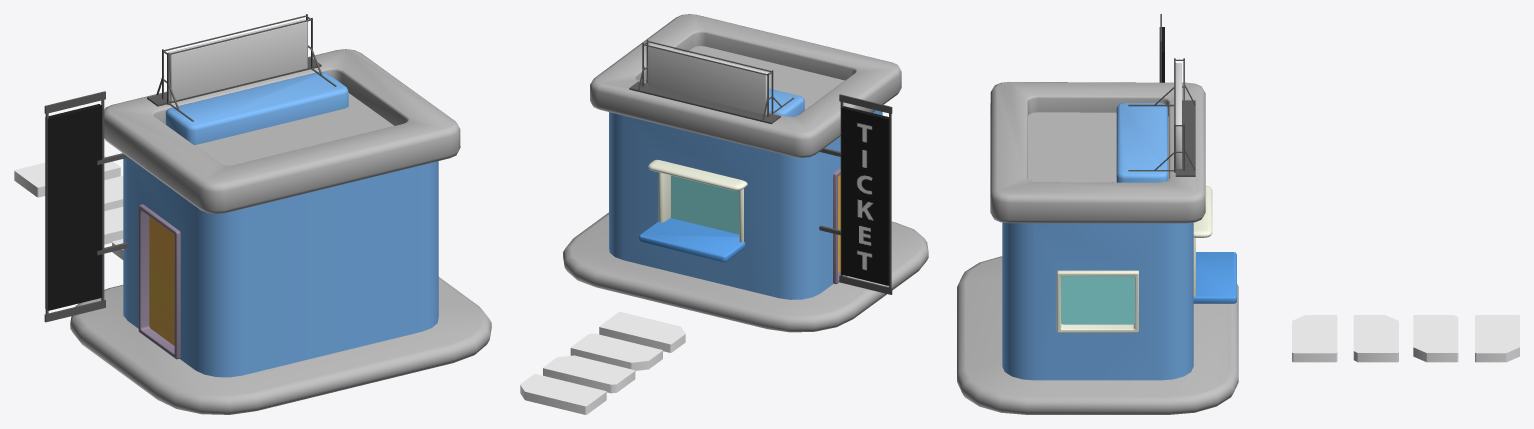
The model's file is ticket_office_blue.fbx.
3 views of the same model, side by side, from view 1: azimuth 30°, elevation 25°; view 2: azimuth 150°, elevation 25°; view 3: azimuth 270°, elevation 25° (orthographic). The views are drawn at different scales.
Parts seen in each view (by area): view 1: ticket_office_blue, stone3, stone2, stone4; view 2: ticket_office_blue, stone3, stone4, stone1, stone2; view 3: ticket_office_blue, stone1, stone2, stone4, stone3.
Part boxes in pixels (x1=…): ticket_office_blue: x1=44, y1=14, x2=491, y2=414; stone3: x1=14, y1=155, x2=120, y2=197; stone2: x1=104, y1=207, x2=123, y2=244; stone4: x1=104, y1=176, x2=123, y2=211; ticket_office_blue: x1=563, y1=14, x2=928, y2=332; stone3: x1=520, y1=374, x2=606, y2=414; stone4: x1=543, y1=355, x2=635, y2=393; stone1: x1=599, y1=312, x2=685, y2=352; stone2: x1=570, y1=333, x2=662, y2=370; ticket_office_blue: x1=957, y1=14, x2=1238, y2=414; stone1: x1=1292, y1=315, x2=1337, y2=362; stone2: x1=1353, y1=315, x2=1398, y2=362; stone4: x1=1413, y1=315, x2=1458, y2=362; stone3: x1=1475, y1=315, x2=1519, y2=362.
Size of the model in its own units: 511 by 360 by 729.
6 materials, 5 textured.
